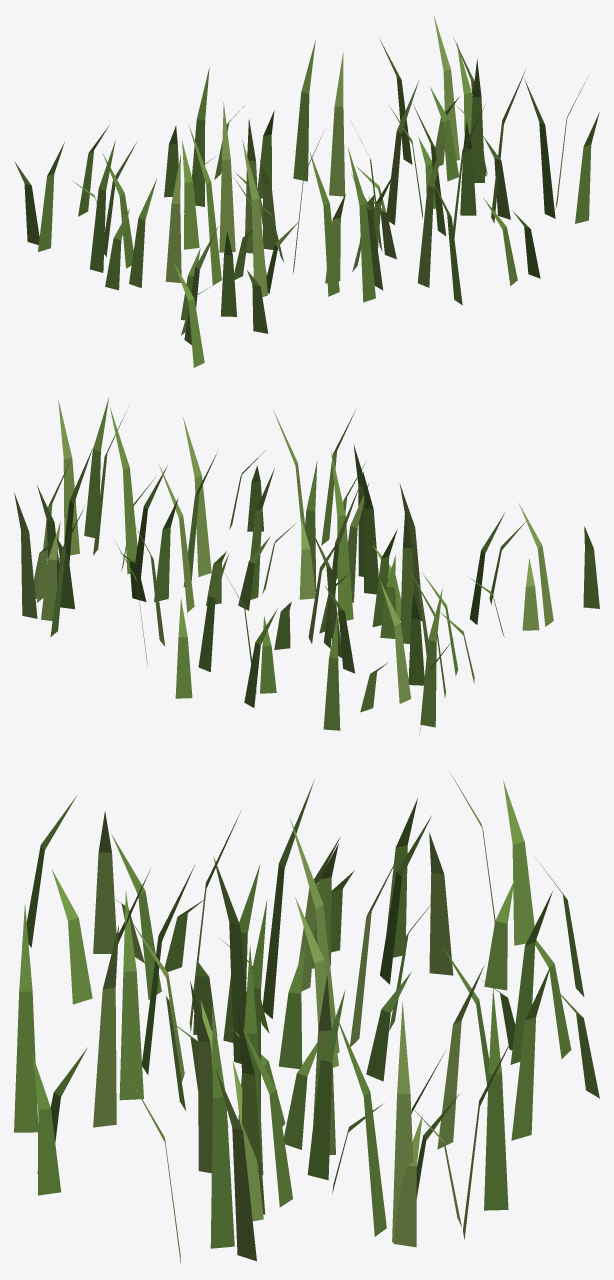
The model's file is verge-grass.glb.
3 renders of one model, top to bottom at view 1: azimuth 30°, elevation 25°; view 2: azimuth 150°, elevation 25°; view 3: azimuth 270°, elevation 25°, orthographic. The views are drawn at different scales.
Bounding box in the file's own units: 2.17 × 0.6548 × 1.53.
Materials: 1 (1 with a texture image).
